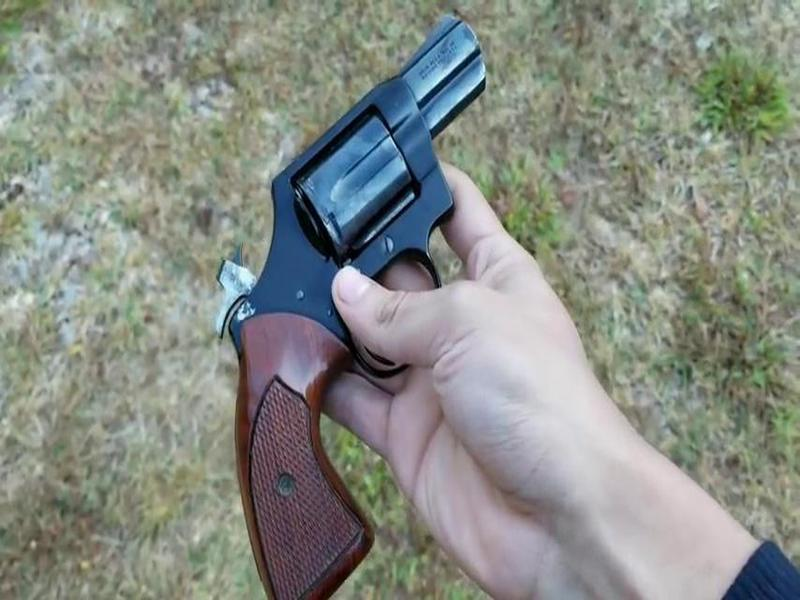Revolver: (192, 9, 499, 580)
